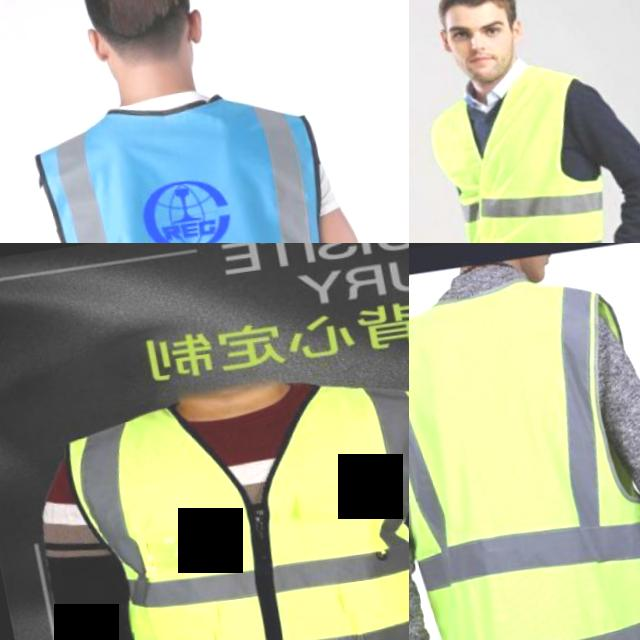vest: (56, 379, 409, 640), (409, 295, 640, 640), (27, 95, 354, 243), (426, 82, 609, 243)
